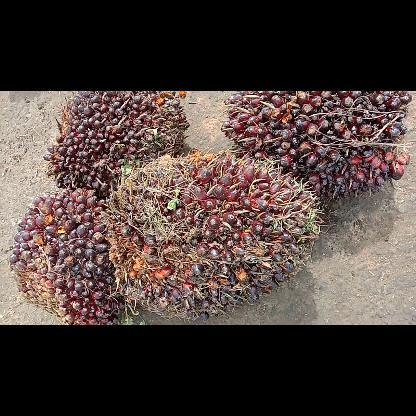Kurang masak: (101, 147, 334, 321), (220, 91, 412, 203), (8, 188, 128, 324), (44, 90, 190, 196)
